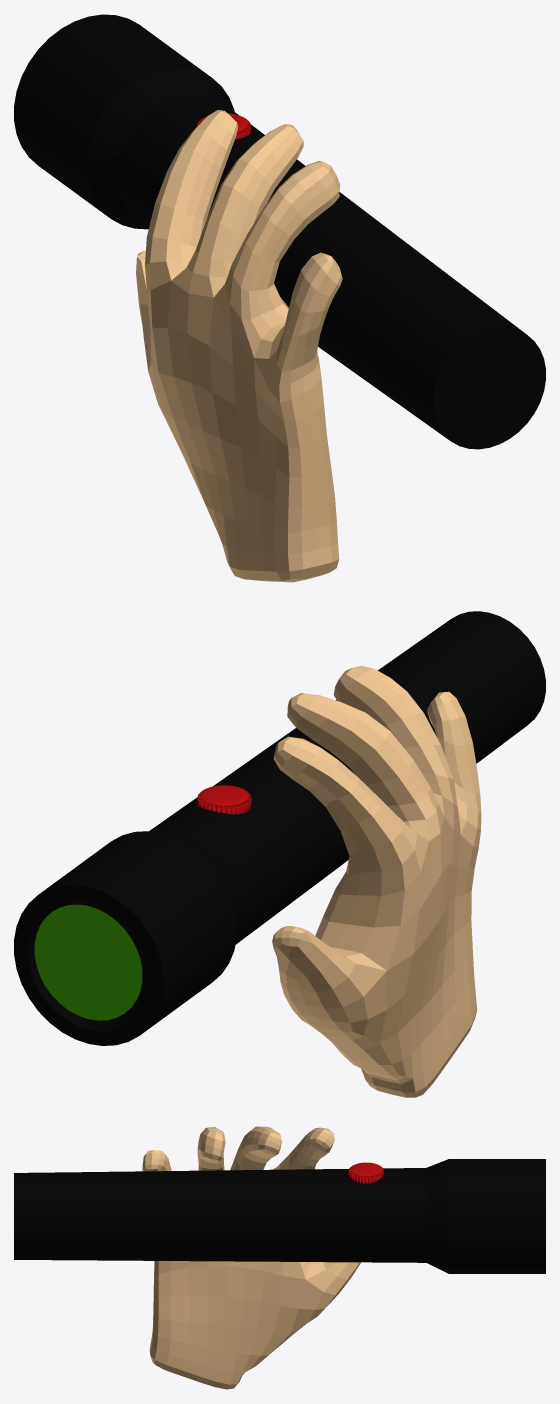
The model's file is hand.fbx.
The picture shows the model from 3 angles, top to bottom: view 1: azimuth 30°, elevation 25°; view 2: azimuth 150°, elevation 25°; view 3: azimuth 270°, elevation 25°; orthographic projection. The views are drawn at different scales.
Visible parts, largest first — view 1: Cube, Cylinder; view 2: Cylinder, Cube, Cylinder.001; view 3: Cylinder, Cube, Cylinder.001.
Boxes of the visible parts, left/top/right/bottom form: Cube: left=136, top=110, right=342, bottom=582; Cylinder: left=14, top=14, right=545, bottom=449; Cylinder: left=14, top=611, right=545, bottom=1045; Cube: left=272, top=665, right=481, bottom=1097; Cylinder.001: left=197, top=785, right=251, bottom=814; Cylinder: left=14, top=1159, right=545, bottom=1273; Cube: left=142, top=1126, right=360, bottom=1389; Cylinder.001: left=348, top=1162, right=384, bottom=1183.
Bounding box in the file's own units: 213 × 395 × 702.
